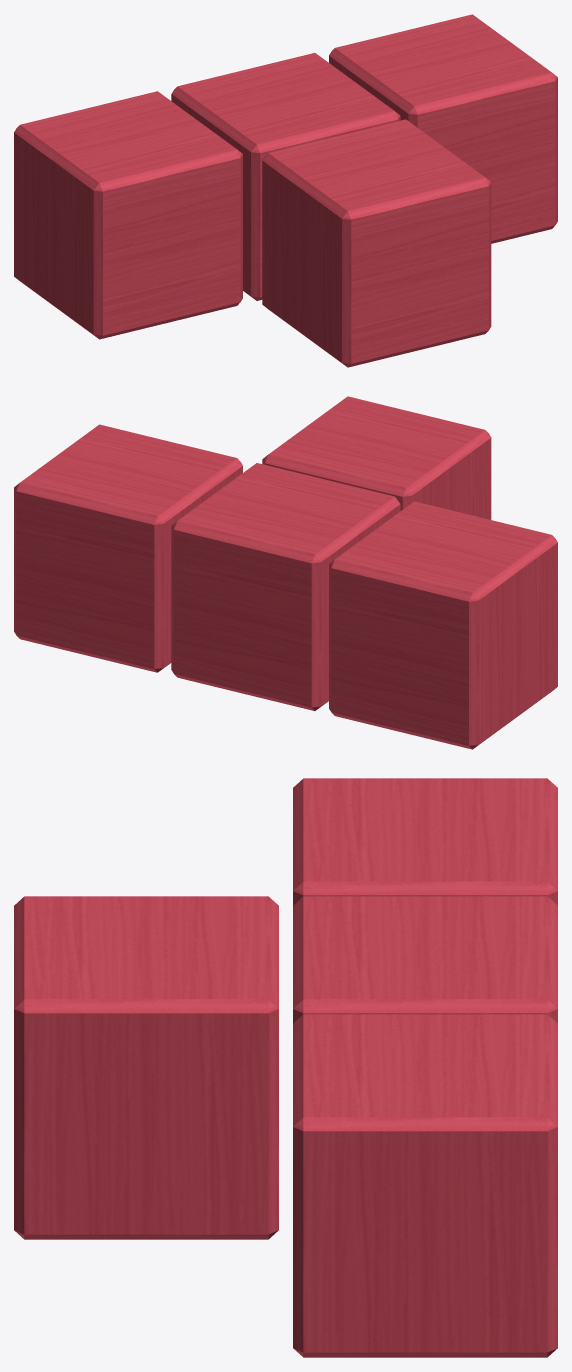
File: piece_T.glb
3 views of the same model, one above another, from view 1: azimuth 30°, elevation 25°; view 2: azimuth 150°, elevation 25°; view 3: azimuth 270°, elevation 25° (orthographic). The views are drawn at different scales.
Parts seen in each view (by area): view 1: piece_T; view 2: piece_T; view 3: piece_T.
Boxes of the visible parts, x1,y1,x2,y2 form: piece_T: [14, 14, 557, 367]; piece_T: [14, 396, 557, 749]; piece_T: [14, 778, 557, 1357].
Bounding box in the file's own units: 0.118 × 0.038 × 0.078.
Materials: 1 (1 with a texture image).
